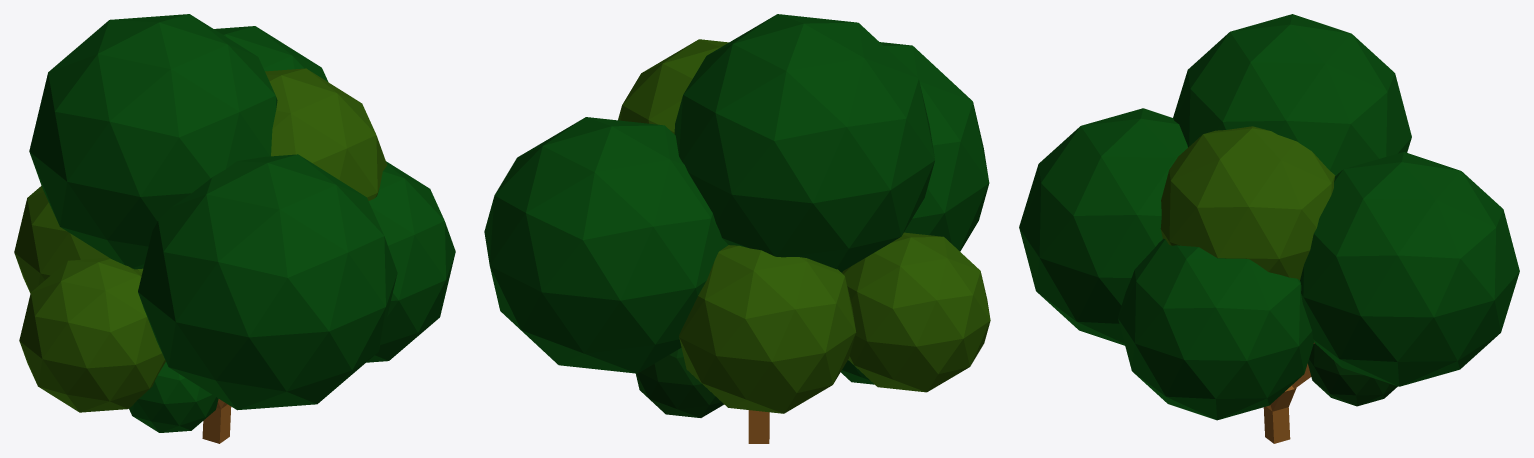
Rendered from RW_bush_Medium.fbx.
3 renders of one model, left to right at view 1: azimuth 30°, elevation 25°; view 2: azimuth 150°, elevation 25°; view 3: azimuth 270°, elevation 25°, orthographic. The views are drawn at different scales.
Parts seen in each view (by area): view 1: Cube.107; view 2: Cube.107; view 3: Cube.107.
Boxes of the visible parts, x1,y1,x2,y2 form: Cube.107: (14, 14, 455, 443); Cube.107: (484, 14, 990, 443); Cube.107: (1019, 14, 1519, 443).
Size of the model in its own units: 3.76 by 3.88 by 4.51.
